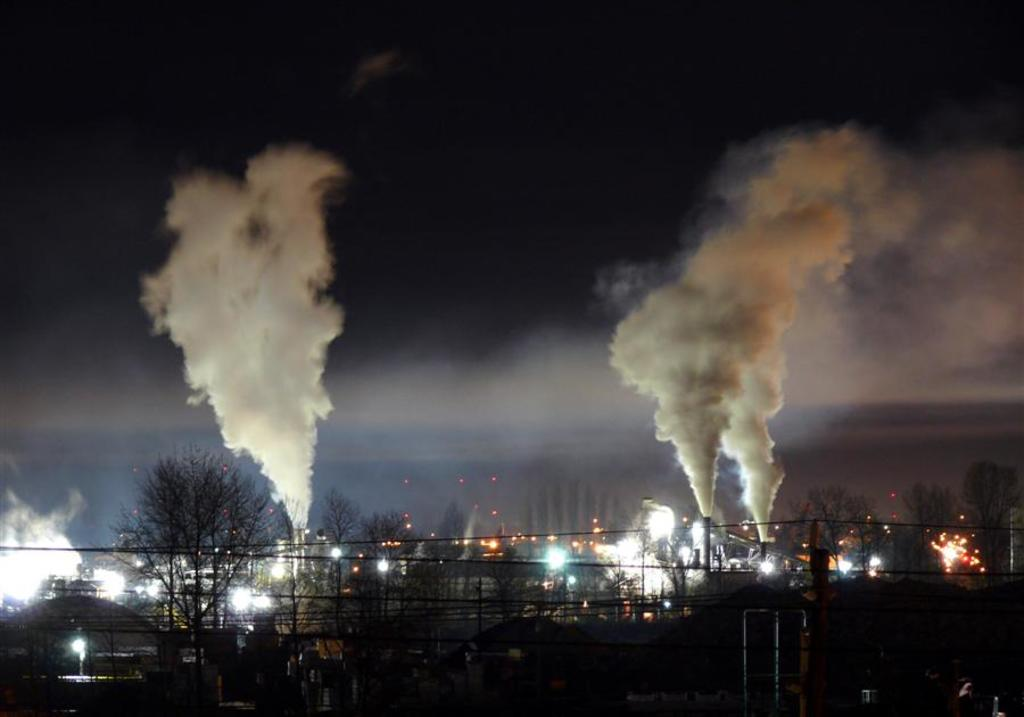Tree: (94, 441, 1024, 716)
